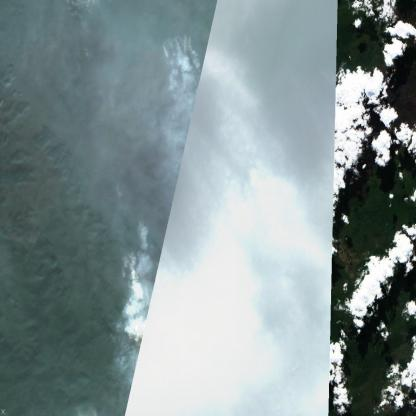fire: (119, 224, 203, 350), (158, 29, 218, 99), (236, 144, 269, 192)
